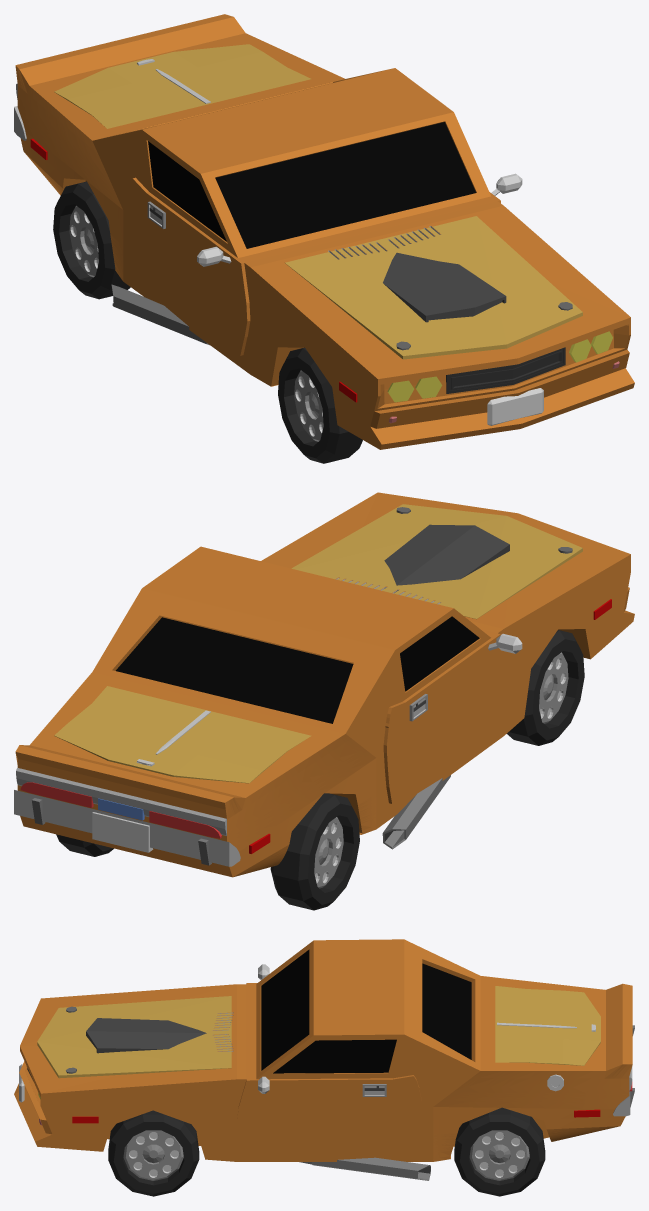
Rendered from Car1.obj.
3 renders of one model, top to bottom at view 1: azimuth 30°, elevation 25°; view 2: azimuth 150°, elevation 25°; view 3: azimuth 270°, elevation 25°, orthographic. The views are drawn at different scales.
Parts seen in each view (by area): view 1: Cube.1_2, Cube.1, Cube.7_3, Cube.2_2, Cylinder_4, Cylinder_1, Cube_2, Cylinder.2_2, plate, Cylinder_3, Cylinder, Cylinder_2 (+4 smaller); view 2: Cube.1_2, Cube.7_3, Cube.1, Cylinder_1, Cube.2_2, Cube.3_2, Cylinder_4, Cube.5_2, Cube.5_3, Cube.6_2, Cylinder.2_2, Cylinder_3 (+3 smaller); view 3: Cube.1_2, Cube.1, Cube.7_3, Cylinder_1, Cylinder_4, Cube.2_2, Cylinder_3, Cylinder, Cylinder.2_2.
Boxes of the visible parts, x1,y1,x2,y2 form: Cube.1_2: [15, 14, 634, 449]; Cube.1: [285, 216, 582, 359]; Cube.7_3: [54, 44, 310, 128]; Cube.2_2: [381, 246, 506, 322]; Cylinder_4: [278, 347, 362, 463]; Cylinder_1: [53, 181, 130, 299]; Cube_2: [446, 347, 565, 393]; Cylinder.2_2: [111, 284, 209, 345]; plate: [487, 388, 543, 425]; Cylinder_3: [294, 370, 323, 441]; Cylinder: [69, 205, 98, 277]; Cylinder_2: [59, 204, 93, 281]; Cube.1_2: [15, 492, 634, 877]; Cube.7_3: [54, 686, 311, 783]; Cube.1: [291, 504, 582, 619]; Cylinder_1: [56, 793, 359, 910]; Cube.2_2: [384, 524, 509, 592]; Cube.3_2: [14, 790, 240, 866]; Cylinder_4: [507, 630, 584, 745]; Cube.5_2: [16, 768, 226, 835]; Cube.5_3: [20, 782, 221, 838]; Cube.6_2: [92, 812, 153, 852]; Cylinder.2_2: [382, 775, 450, 849]; Cylinder_3: [539, 652, 568, 723]; Cube.1_2: [14, 939, 632, 1161]; Cube.1: [37, 996, 231, 1078]; Cube.7_3: [495, 986, 600, 1065]; Cylinder_1: [454, 1107, 545, 1196]; Cylinder_4: [108, 1110, 199, 1196]; Cube.2_2: [86, 1018, 206, 1053]; Cylinder_3: [123, 1130, 183, 1180]; Cylinder: [469, 1130, 529, 1180]; Cylinder.2_2: [299, 1157, 430, 1180].
Bounding box in the file's own units: 2.56 × 1.6 × 5.52.
